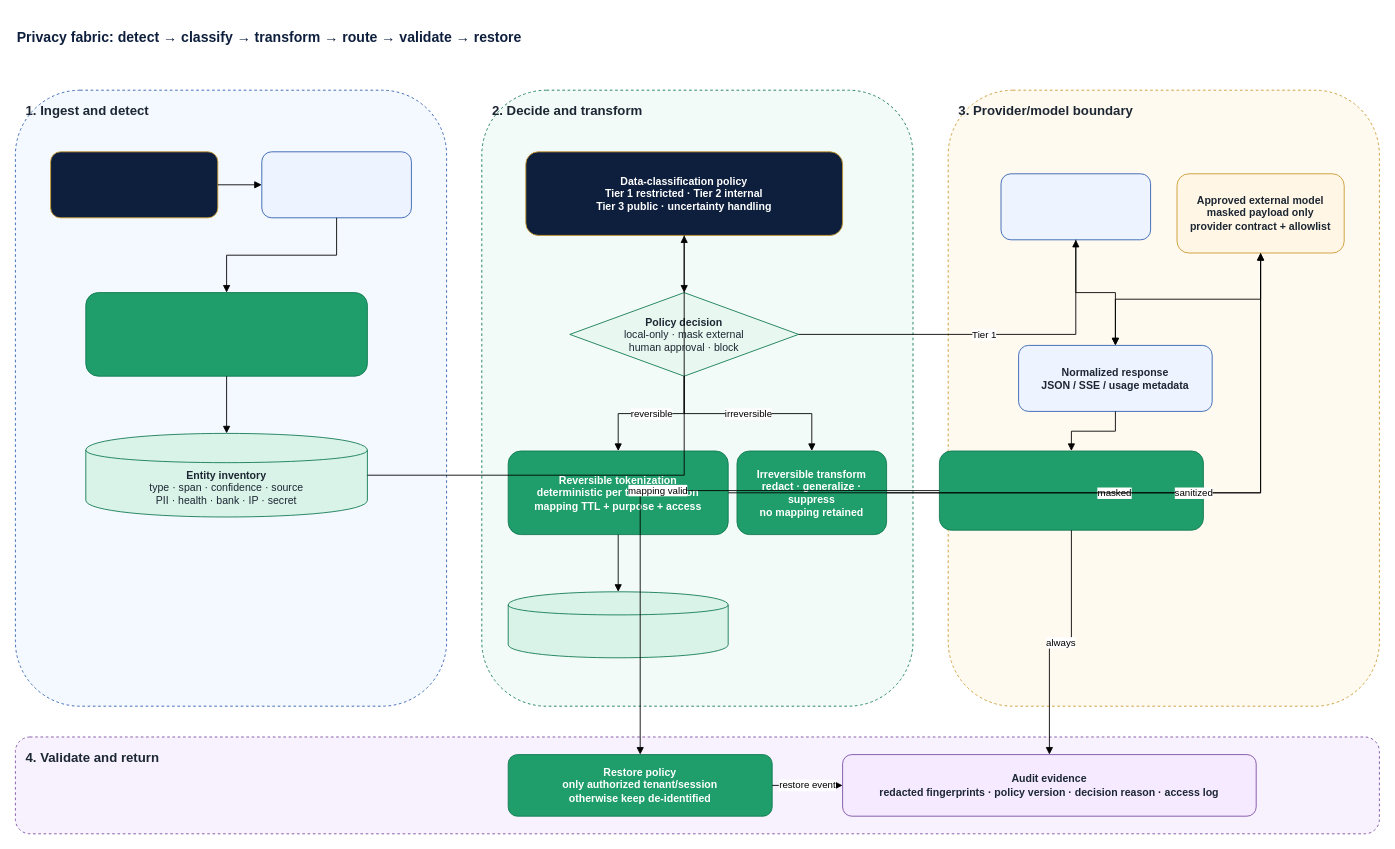
The diagram is 1395 pixels wide and 849 high, and some of its shapes have lost their labels. Here are the shapes that lost their labels. From the top down, the centre of each, then its label:
At pixel 134 184: "Raw request text · files · image · tool args".
At pixel 336 184: "Parse + normalize canonical schema · file type · size".
At pixel 1075 206: "Domestic model no external egress".
At pixel 226 334: "Detection ensemble regex/checksum · NER · context secret scan · OCR · classifier".
At pixel 1071 490: "Output validation schema · content · PII · secrets tool/action authorization".
At pixel 617 624: "Encrypted mapping vault HSM/KMS-wrapped keys tenant-isolated · short TTL".
